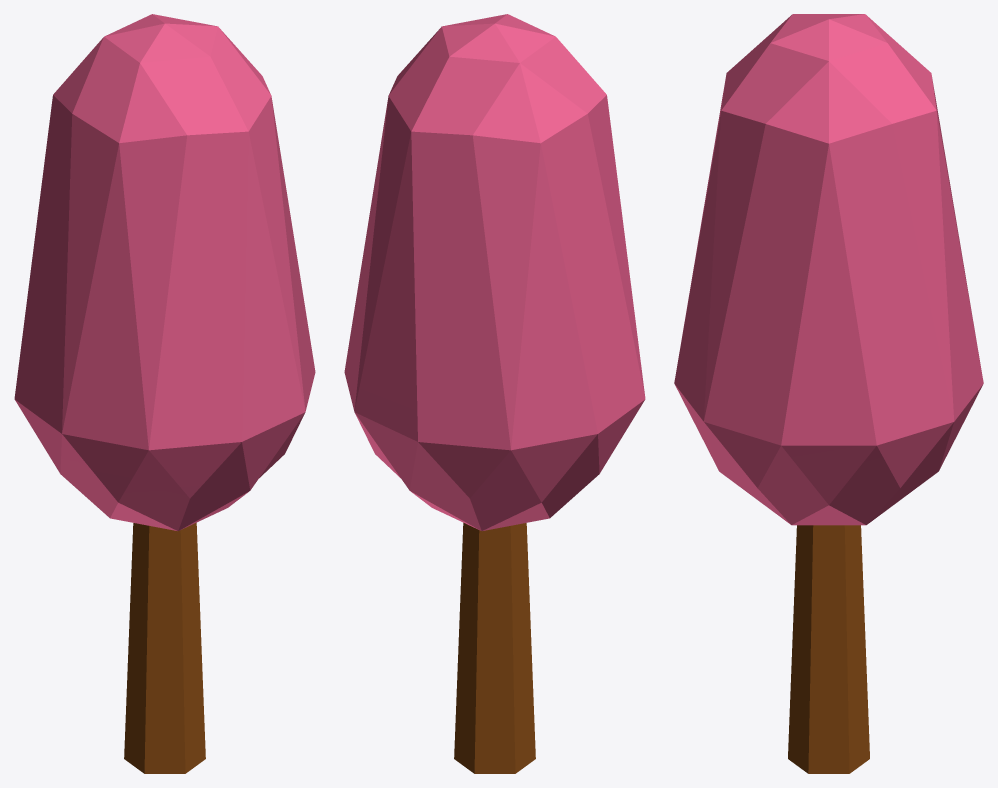
File: Tree_12.fbx
3 views of the same model, side by side, from view 1: azimuth 30°, elevation 25°; view 2: azimuth 150°, elevation 25°; view 3: azimuth 270°, elevation 25° (orthographic).
Visible parts, largest first — view 1: Tree_12; view 2: Tree_12; view 3: Tree_12.
Boxes of the visible parts, left/top/right/bottom form: Tree_12: left=14, top=14, right=315, bottom=773; Tree_12: left=344, top=14, right=645, bottom=773; Tree_12: left=674, top=14, right=983, bottom=773.
Size of the model in its own units: 529 by 1468 by 557.
